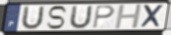H: (114, 3, 144, 30)
P: (92, 5, 116, 29)
S: (46, 5, 69, 31)
U: (20, 5, 46, 31), (68, 5, 94, 31)
X: (139, 4, 165, 29)
